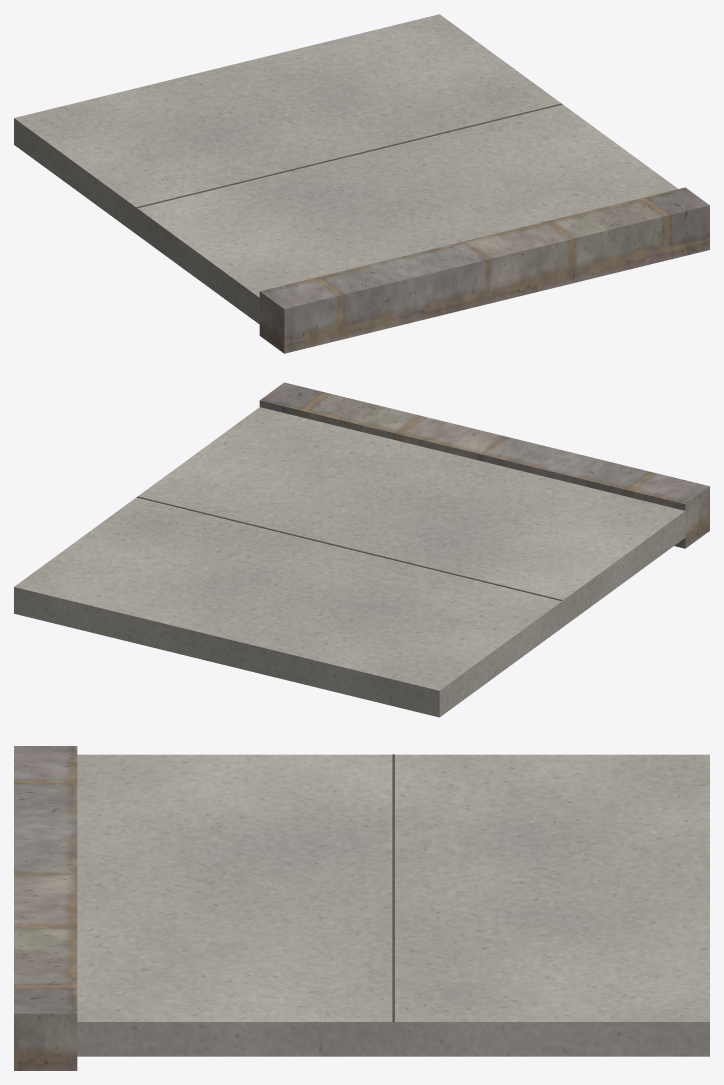
File: sidewalk.glb
3 renders of one model, top to bottom at view 1: azimuth 30°, elevation 25°; view 2: azimuth 150°, elevation 25°; view 3: azimuth 270°, elevation 25°, orthographic. The views are drawn at different scales.
Visible parts, largest first — view 1: sidewalk_concrete, sidewalk_plinth, sidewalk_dark; view 2: sidewalk_concrete, sidewalk_plinth, sidewalk_dark; view 3: sidewalk_concrete, sidewalk_plinth, sidewalk_dark.
Boxes of the visible parts, bbox=[...] form: sidewalk_concrete: bbox=[14, 14, 677, 324]; sidewalk_plinth: bbox=[259, 187, 709, 353]; sidewalk_dark: bbox=[136, 103, 562, 207]; sidewalk_concrete: bbox=[14, 407, 685, 717]; sidewalk_plinth: bbox=[259, 382, 709, 548]; sidewalk_dark: bbox=[136, 496, 562, 600]; sidewalk_concrete: bbox=[77, 754, 709, 1056]; sidewalk_plinth: bbox=[14, 746, 77, 1070]; sidewalk_dark: bbox=[392, 754, 394, 1021].
Size of the model in its own units: 2 by 0.2 by 2.2.
Materials: 3 (2 with a texture image).
